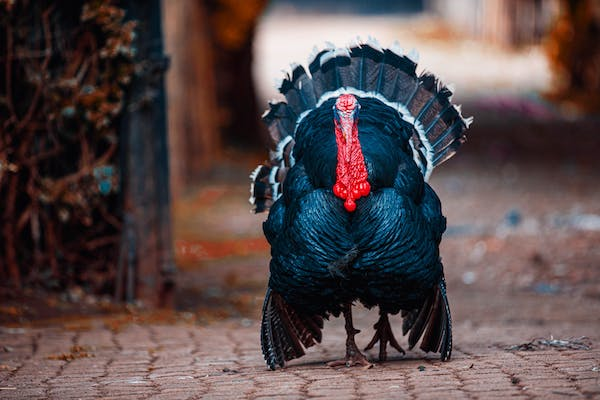Walking: (197, 11, 513, 380)
